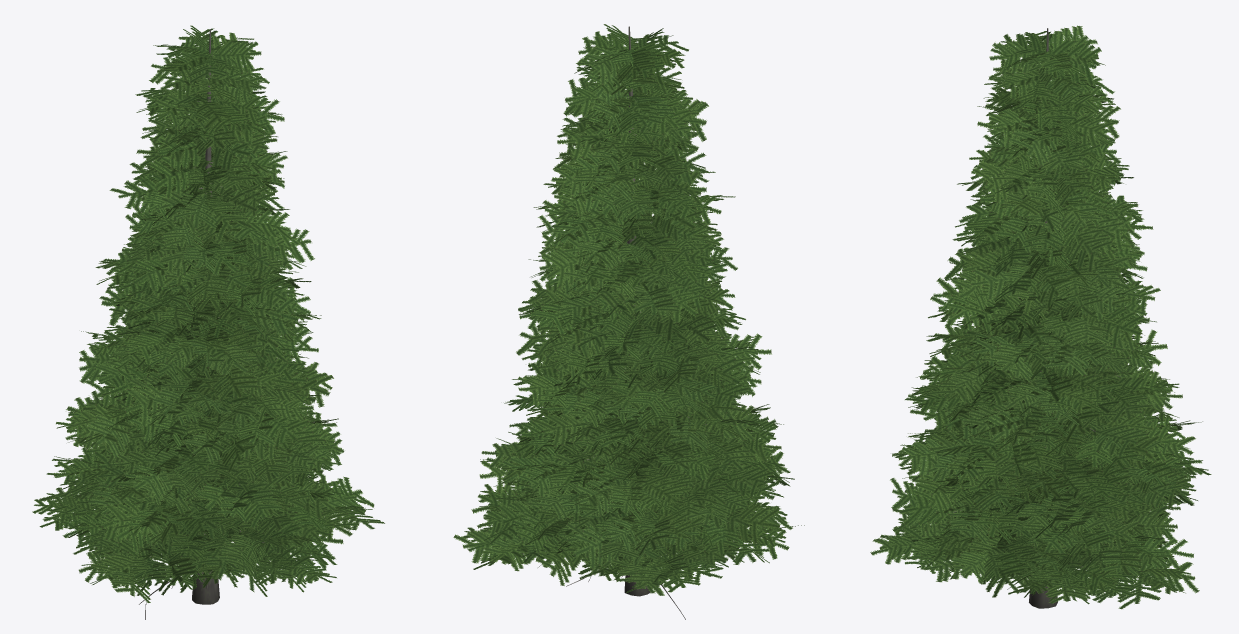
File: jedle_stredni.glb
The picture shows the model from 3 angles, left to right: view 1: azimuth 30°, elevation 25°; view 2: azimuth 150°, elevation 25°; view 3: azimuth 270°, elevation 25°; orthographic projection. The views are drawn at different scales.
Visible parts, largest first — view 1: jedle_stredni; view 2: jedle_stredni; view 3: jedle_stredni.
Boxes of the visible parts, left/top/right/bottom form: jedle_stredni: left=32, top=25, right=384, bottom=619; jedle_stredni: left=453, top=24, right=804, bottom=619; jedle_stredni: left=870, top=25, right=1211, bottom=609.
Bounding box in the file's own units: 8.43 × 14.73 × 8.49.
2 materials, 2 textured.
